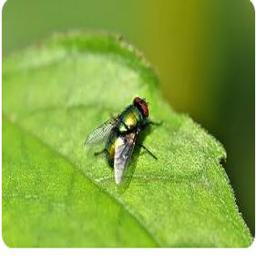liriomyza: (84, 95, 160, 186)
